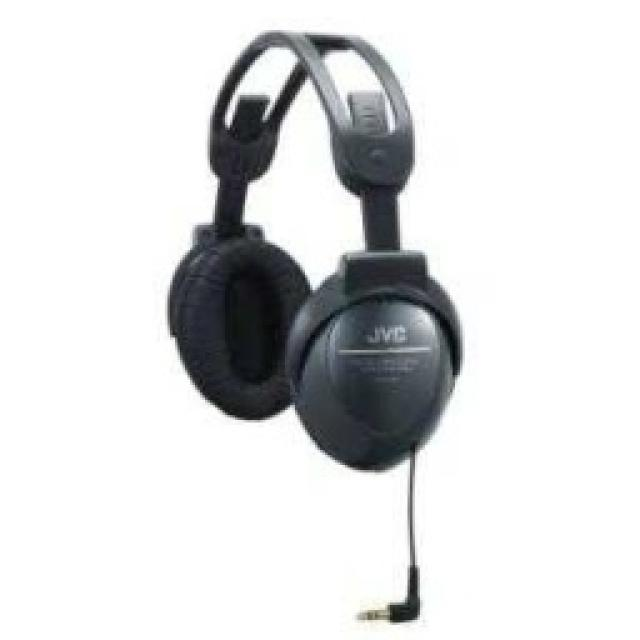headphones: (165, 25, 463, 473)
